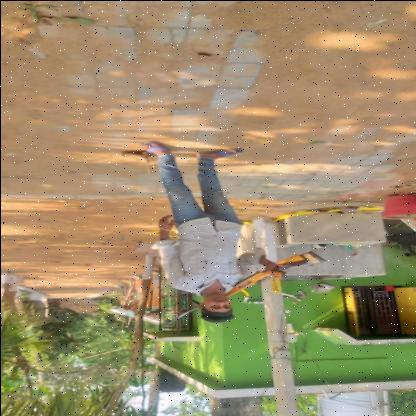rifle: (158, 249, 328, 328)
